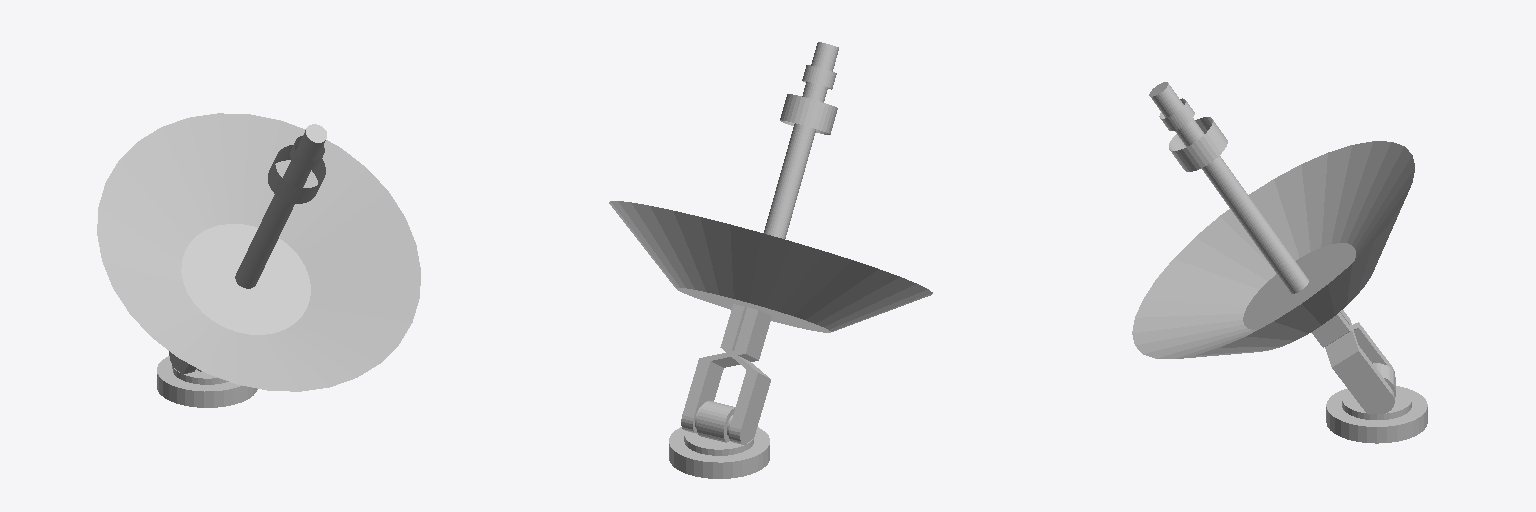
Rendered from dish.obj.
The picture shows the model from 3 angles: view 1: azimuth 30°, elevation 25°; view 2: azimuth 150°, elevation 25°; view 3: azimuth 270°, elevation 25°; orthographic projection.
Visible parts, largest first — view 1: Cylinder.011; view 2: Cylinder.011; view 3: Cylinder.011.
Part boxes in pixels (left/top/right/bottom): Cylinder.011: left=97, top=113, right=420, bottom=407; Cylinder.011: left=609, top=42, right=932, bottom=478; Cylinder.011: left=1132, top=82, right=1427, bottom=443.
Bounding box in the file's own units: 50.89 × 57.36 × 44.62.